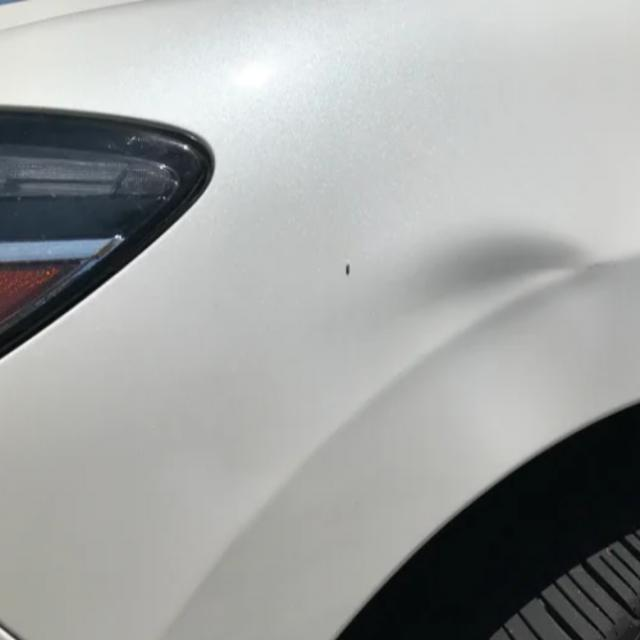dents: (410, 218, 600, 314)
